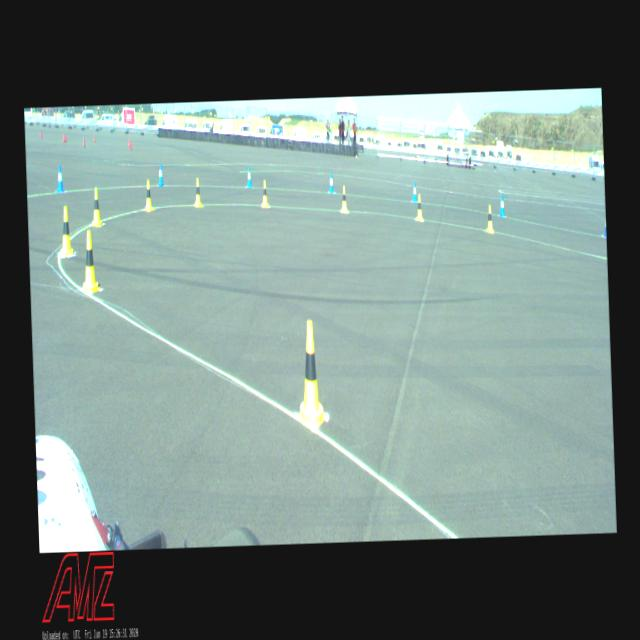blue_cone: (56, 164, 64, 191), (157, 162, 164, 185), (498, 194, 505, 216), (246, 166, 252, 188), (411, 182, 417, 202), (328, 173, 333, 193), (602, 218, 606, 236)
yellow_cone: (295, 319, 326, 426), (80, 230, 98, 292), (58, 206, 73, 256), (90, 187, 102, 226), (144, 179, 154, 211), (194, 177, 202, 206), (486, 204, 494, 233), (340, 185, 348, 212), (261, 180, 268, 206), (416, 193, 422, 220)
